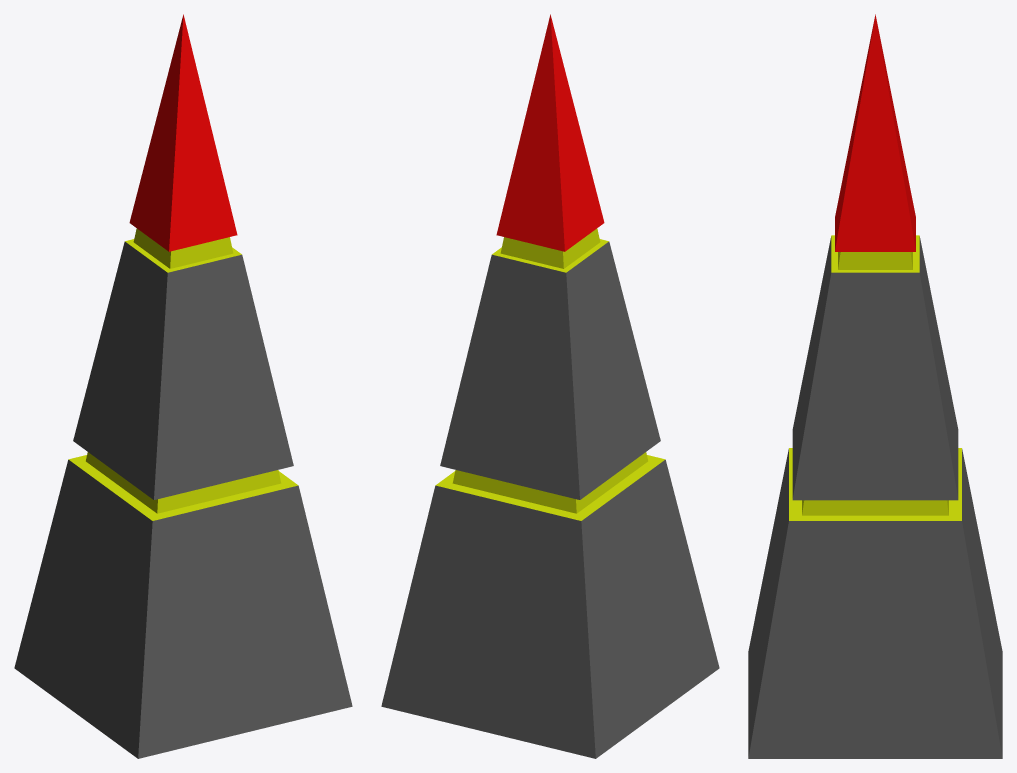
The model's file is Spike.fbx.
The picture shows the model from 3 angles, left to right: view 1: azimuth 30°, elevation 25°; view 2: azimuth 150°, elevation 25°; view 3: azimuth 270°, elevation 25°; orthographic projection. The views are drawn at different scales.
Parts seen in each view (by area): view 1: Spike; view 2: Spike; view 3: Spike.
Boxes of the visible parts, bbox=[...] form: Spike: bbox=[14, 14, 352, 758]; Spike: bbox=[381, 14, 719, 758]; Spike: bbox=[748, 14, 1002, 758].
Bounding box in the file's own units: 100 × 300 × 100.
